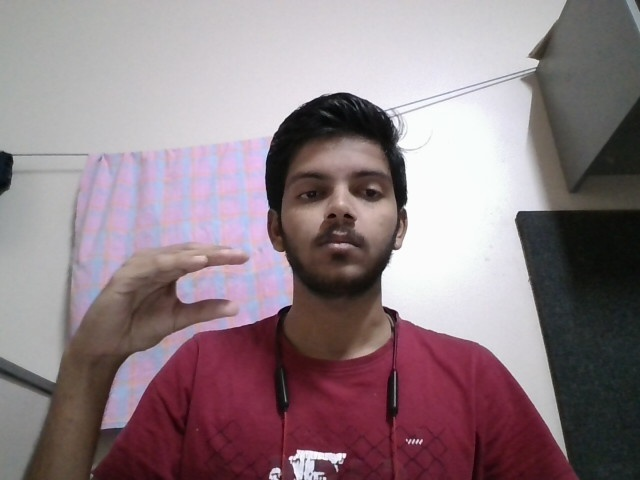Yes: (74, 232, 251, 352)
